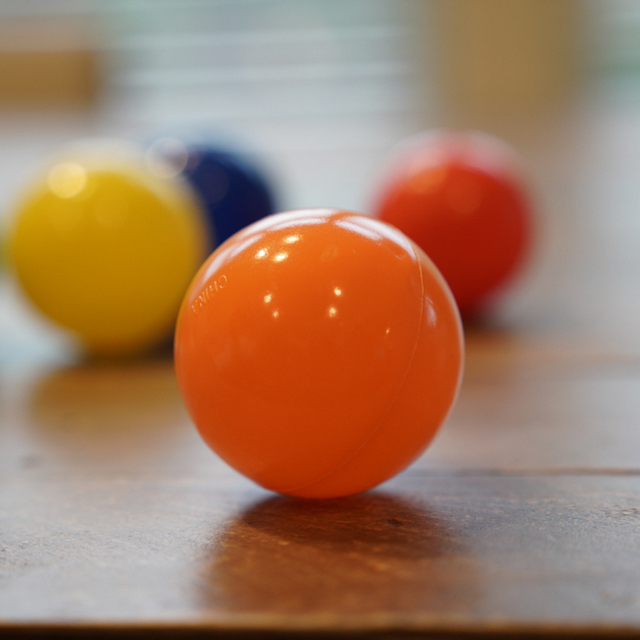Ball: (366, 133, 531, 311)
